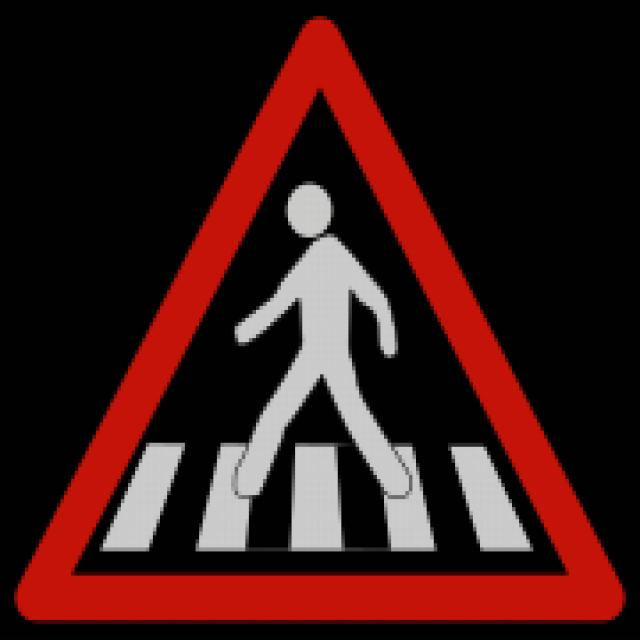danger: (5, 3, 640, 640)
